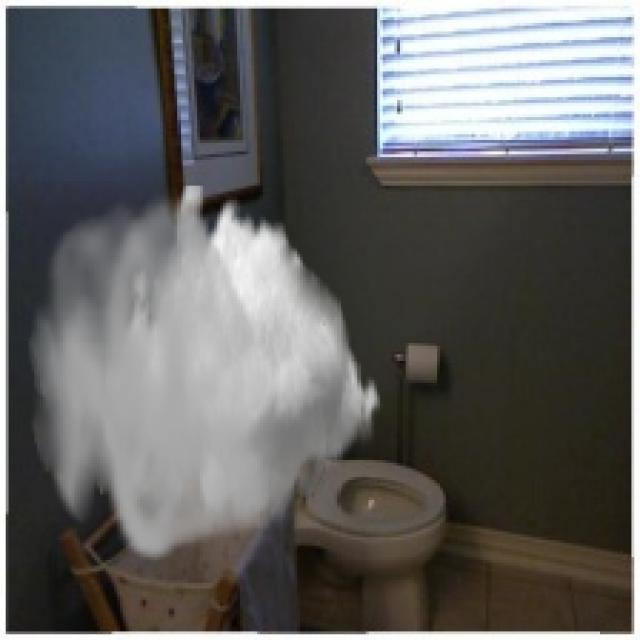Smoke: (28, 185, 383, 566)
